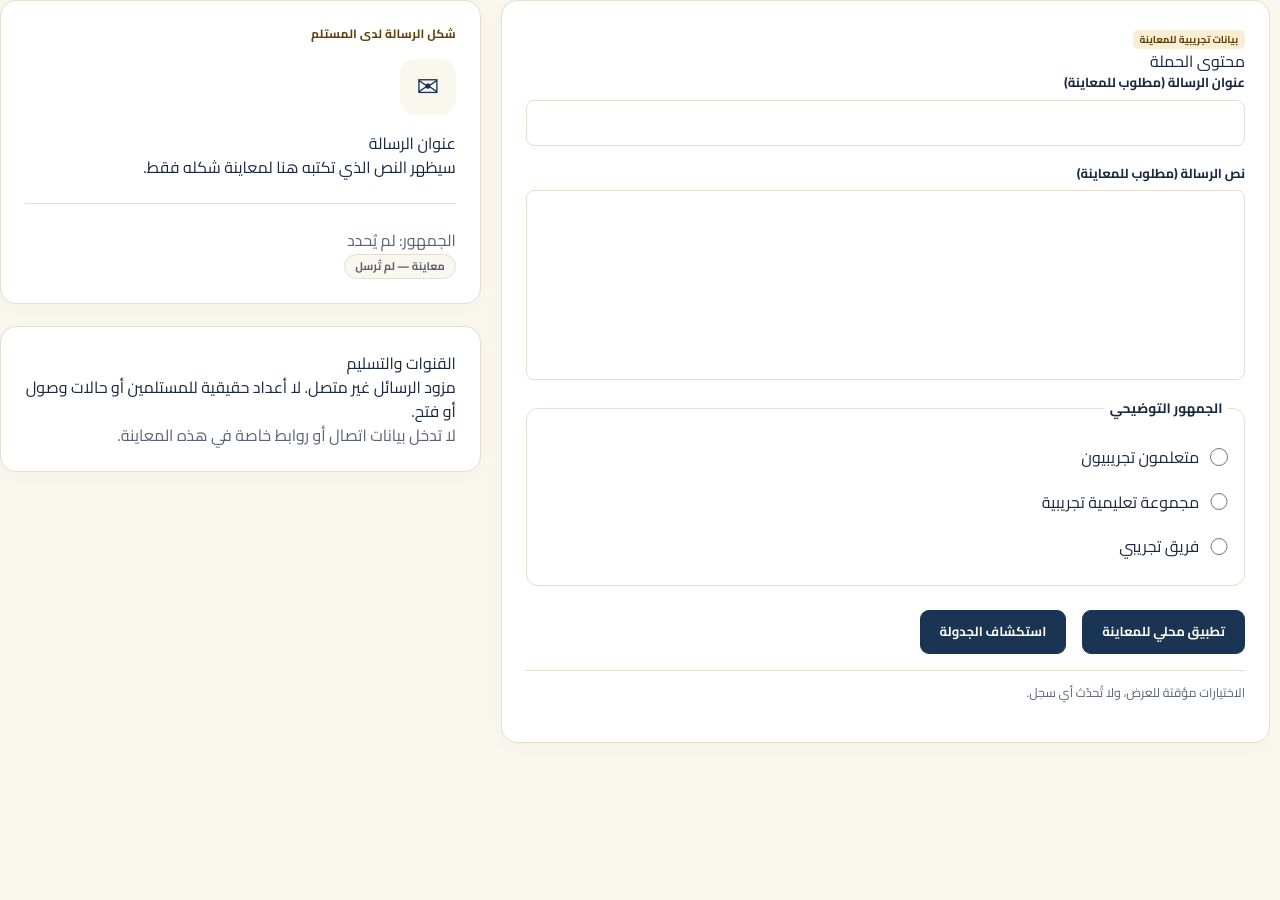
ADMIN-NOTIFY-20261023 administrative audience preview › preserves the existing campaign composer
The image size is (1280, 900).
Expected: the heading "محتوى الحملة" is shown, x1=1150 y1=46 x2=1245 y2=76
Type "حملة نموذجية" into the field labelled "عنوان الرسالة (مطلوب للمعاينة)". click: (885, 122)
box: x1=526 y1=100 x2=1245 y2=146
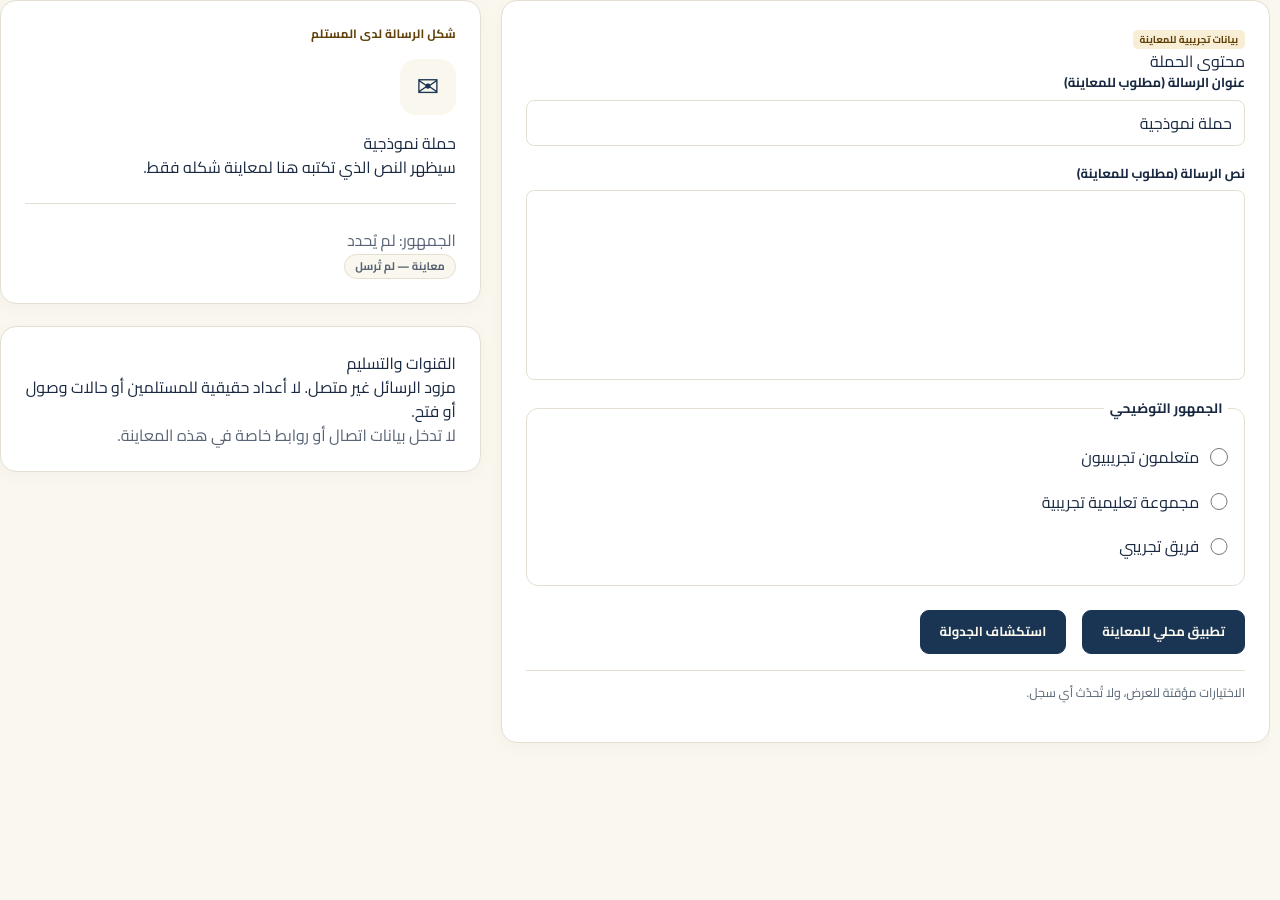
Type "نص نموذج محلي" into the text box labelled "نص الرسالة (مطلوب للمعاينة)". click: (885, 285)
box: x1=526 y1=190 x2=1245 y2=380
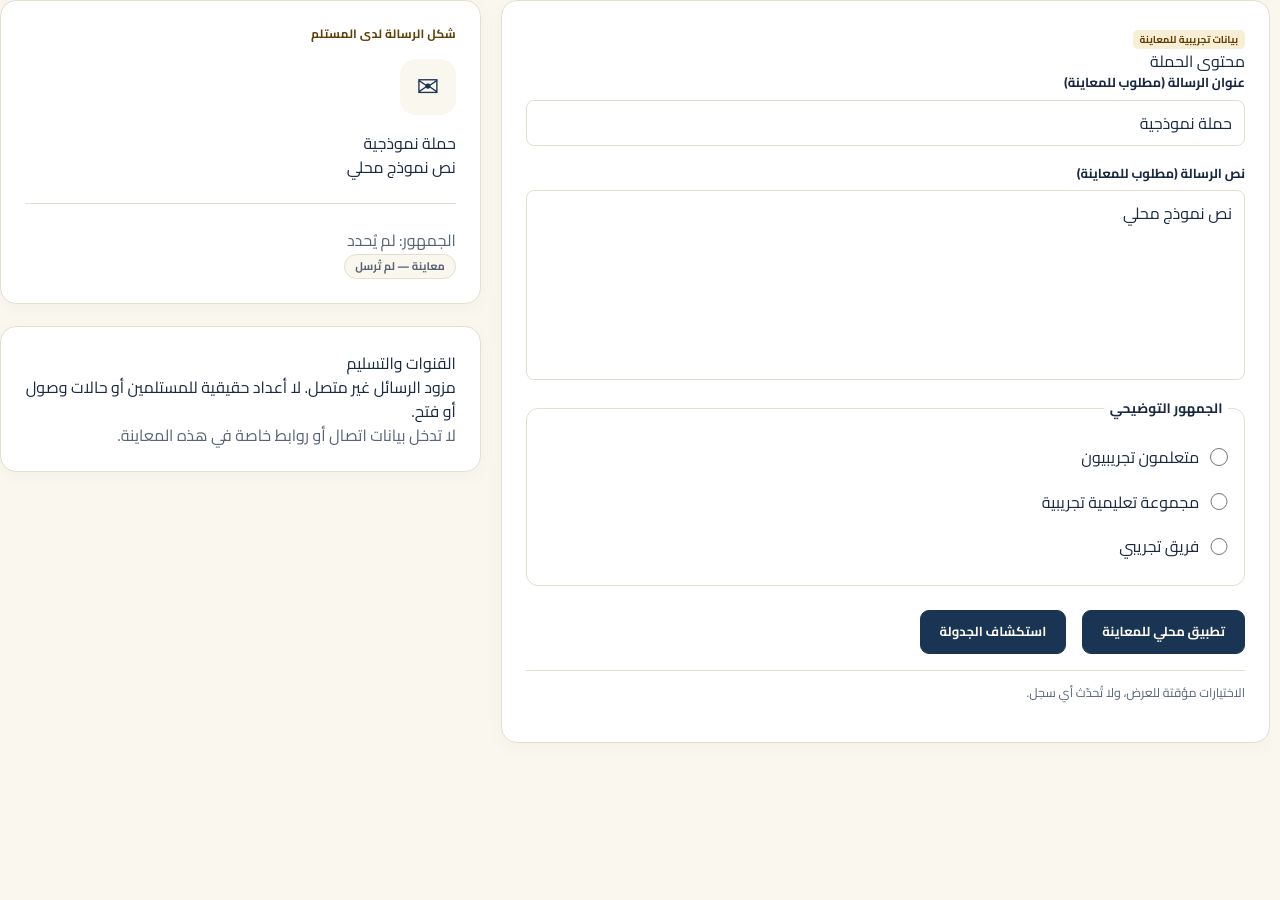
Click the button "تطبيق محلي للمعاينة". click: click(1164, 632)
box: x1=1082 y1=610 x2=1245 y2=654
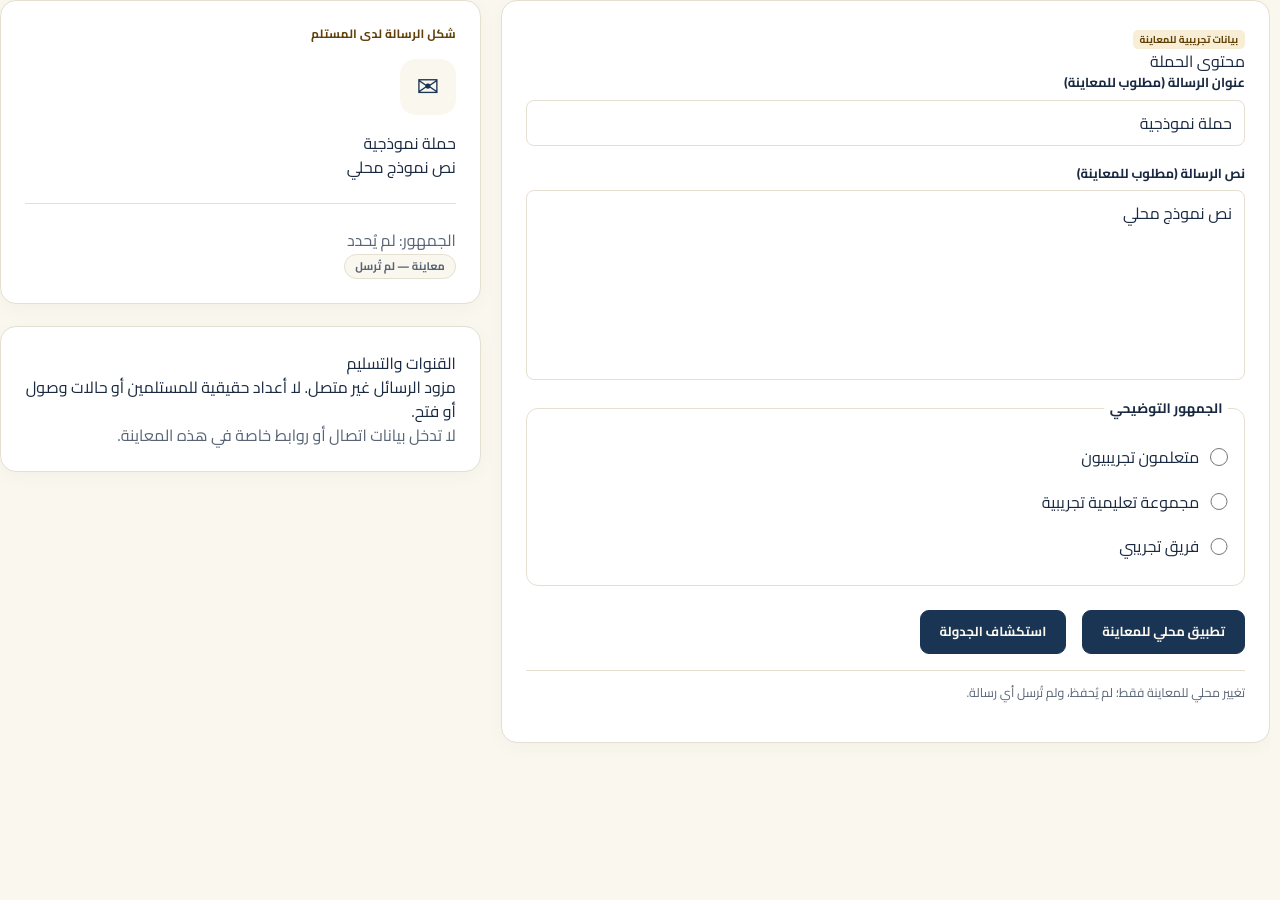
Now the message shows "لم تُرسل أي رسالة", box x1=966 y1=680 x2=1245 y2=704
